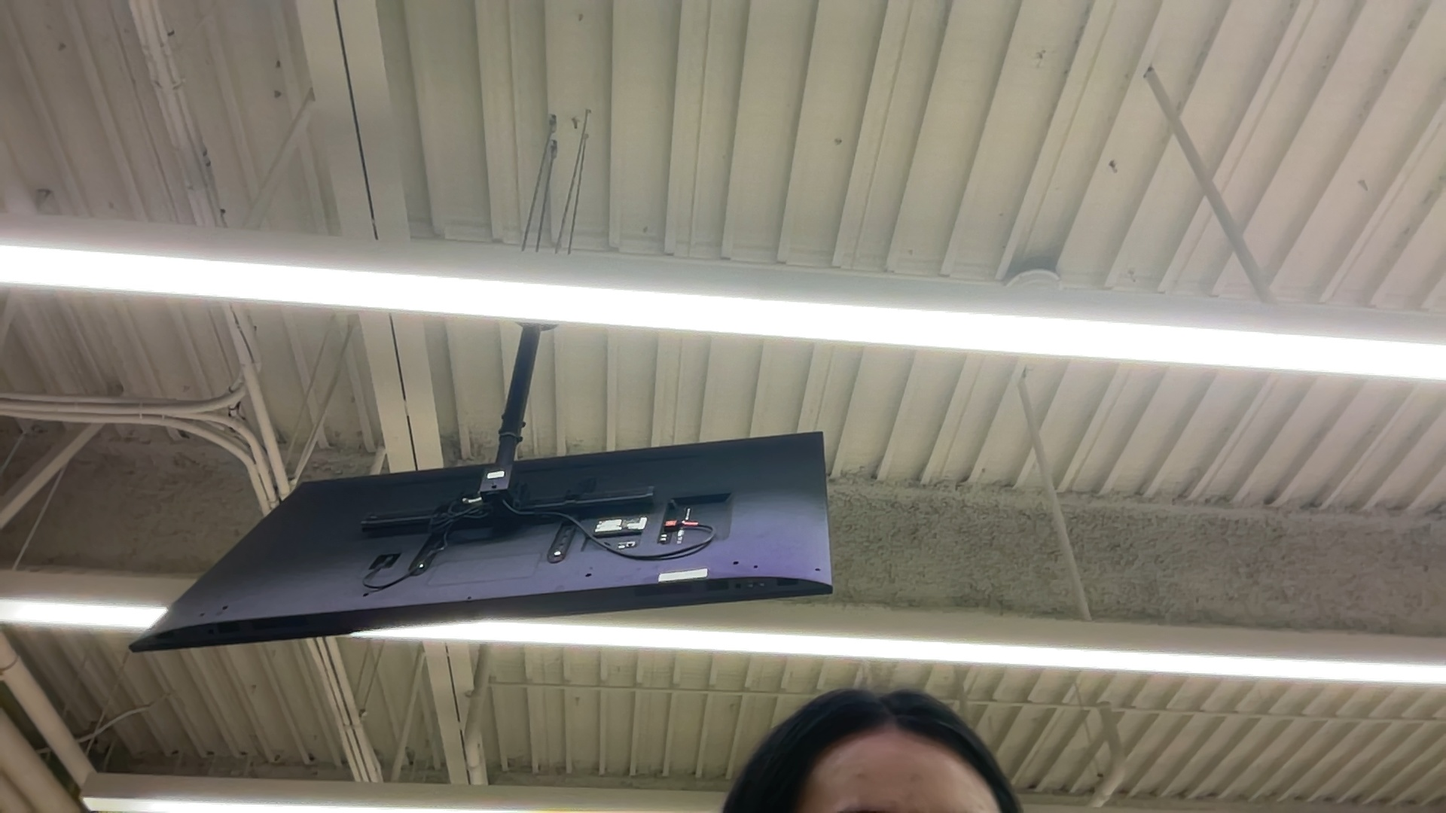Plastic: (4, 401, 274, 606)
